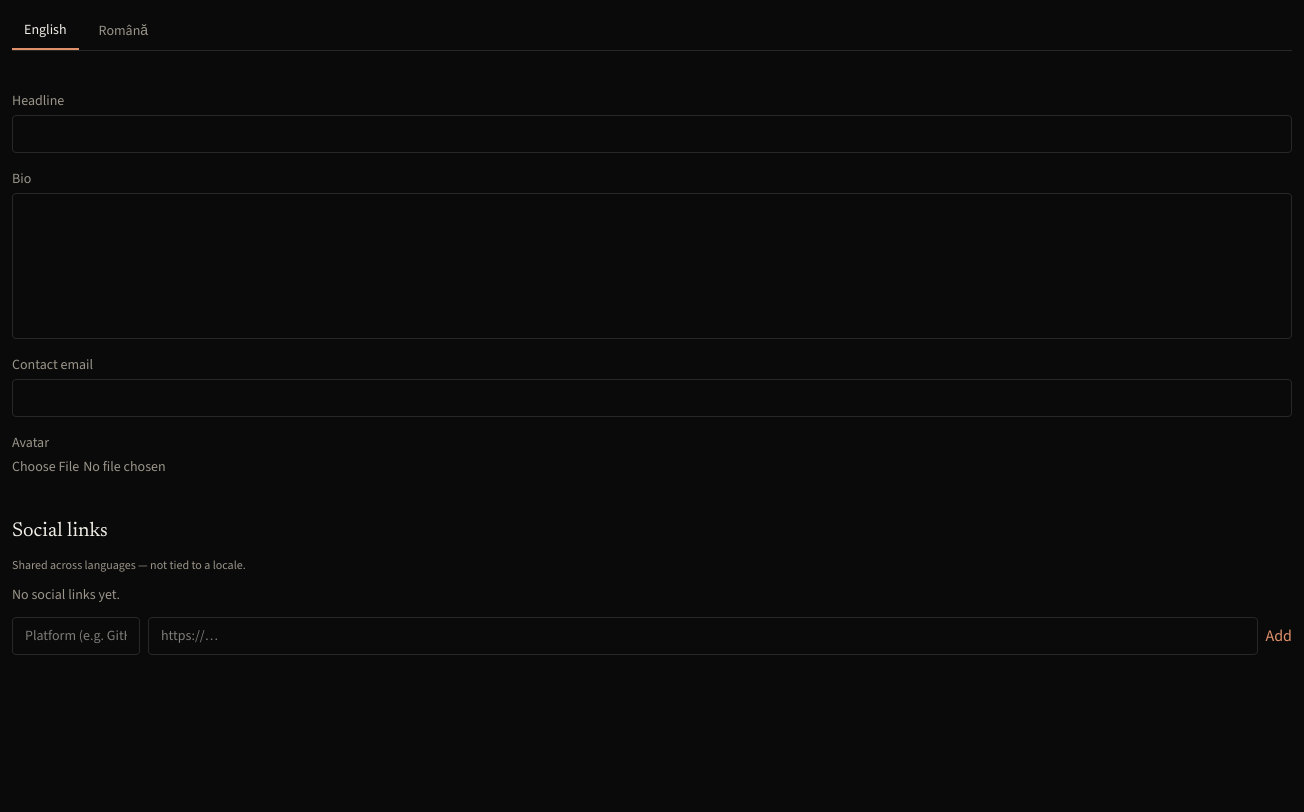
Test: AboutForm › shows a dismissible error banner when saving the headline fails
This screenshot has width=1304, height=812.
Type "Hi" into the field labelled "Headline". click: (652, 134)
box: [12,115,1292,153]
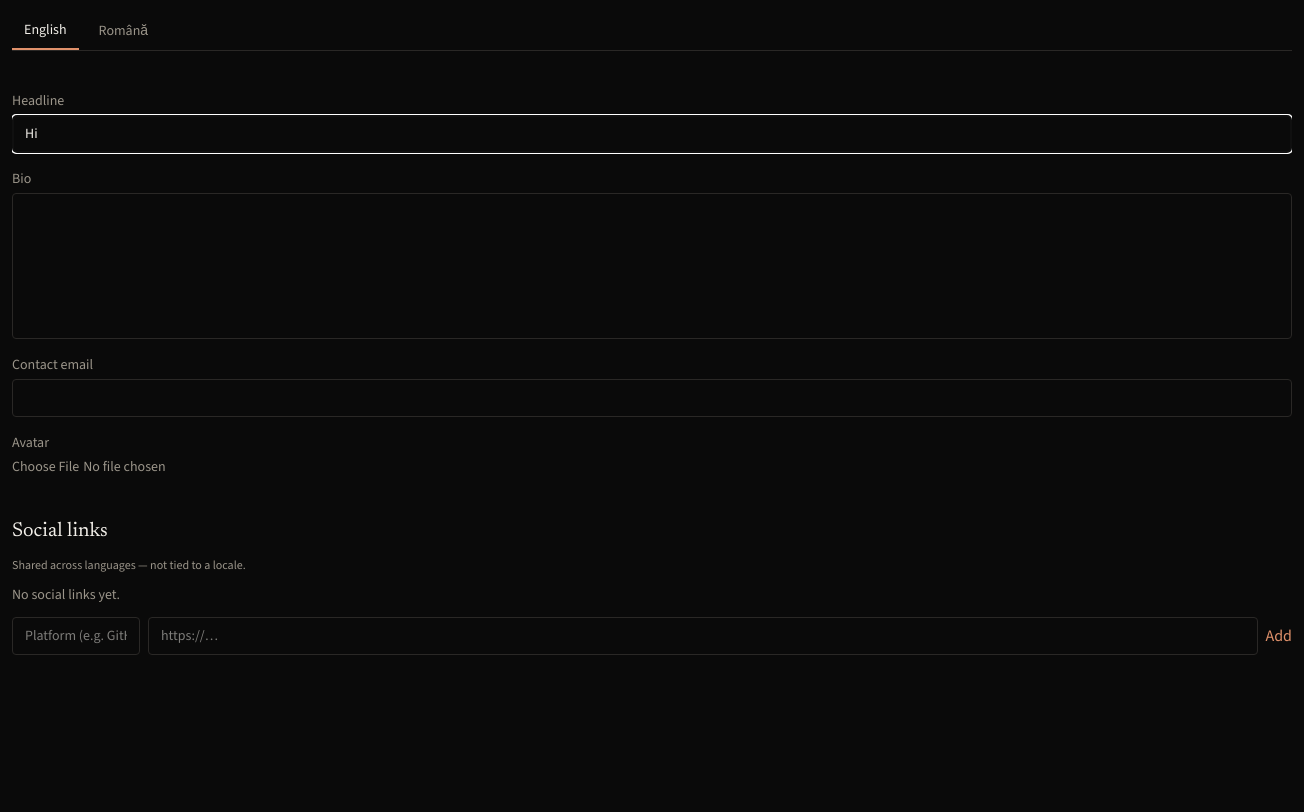
Press Tab
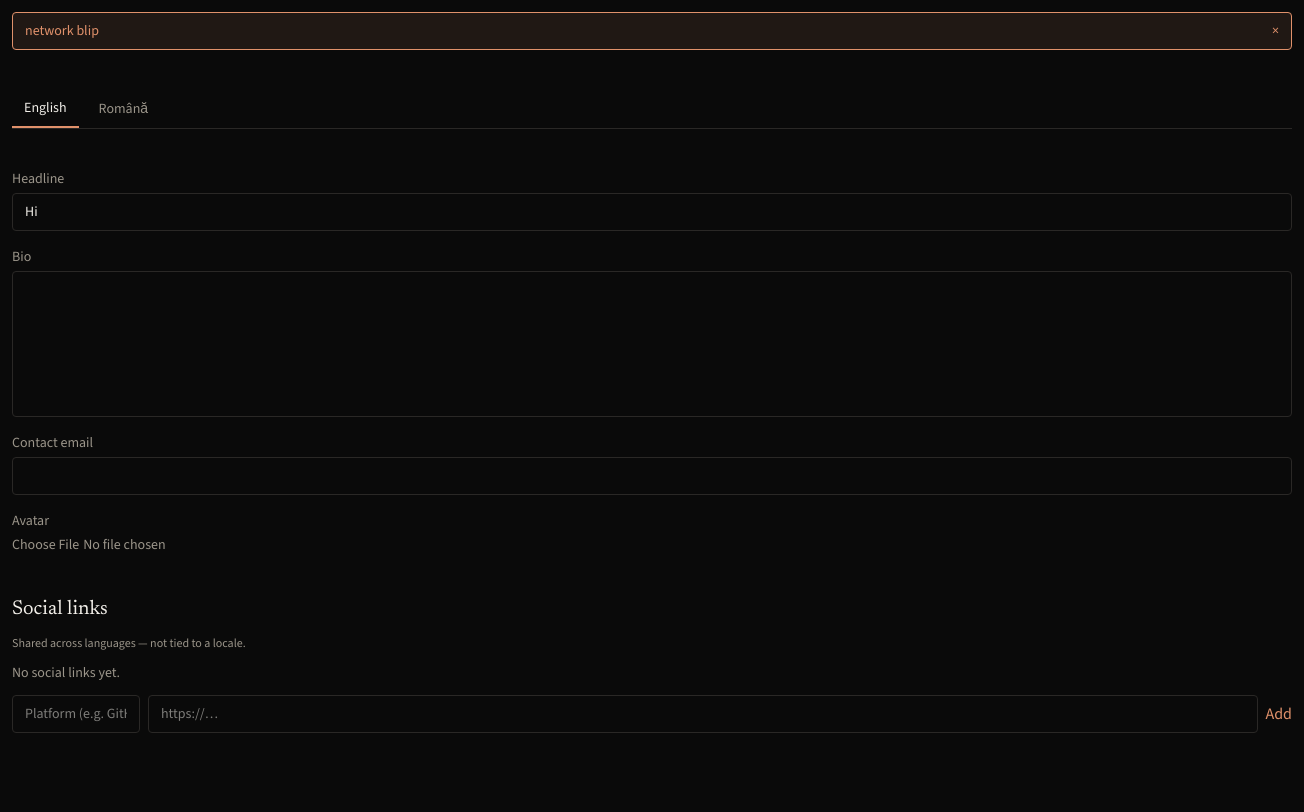
Check: the text "network blip" is shown, box [25,21,99,41]
Click the button named "Dismiss error". click: (1276, 31)
box: [1272,21,1279,41]
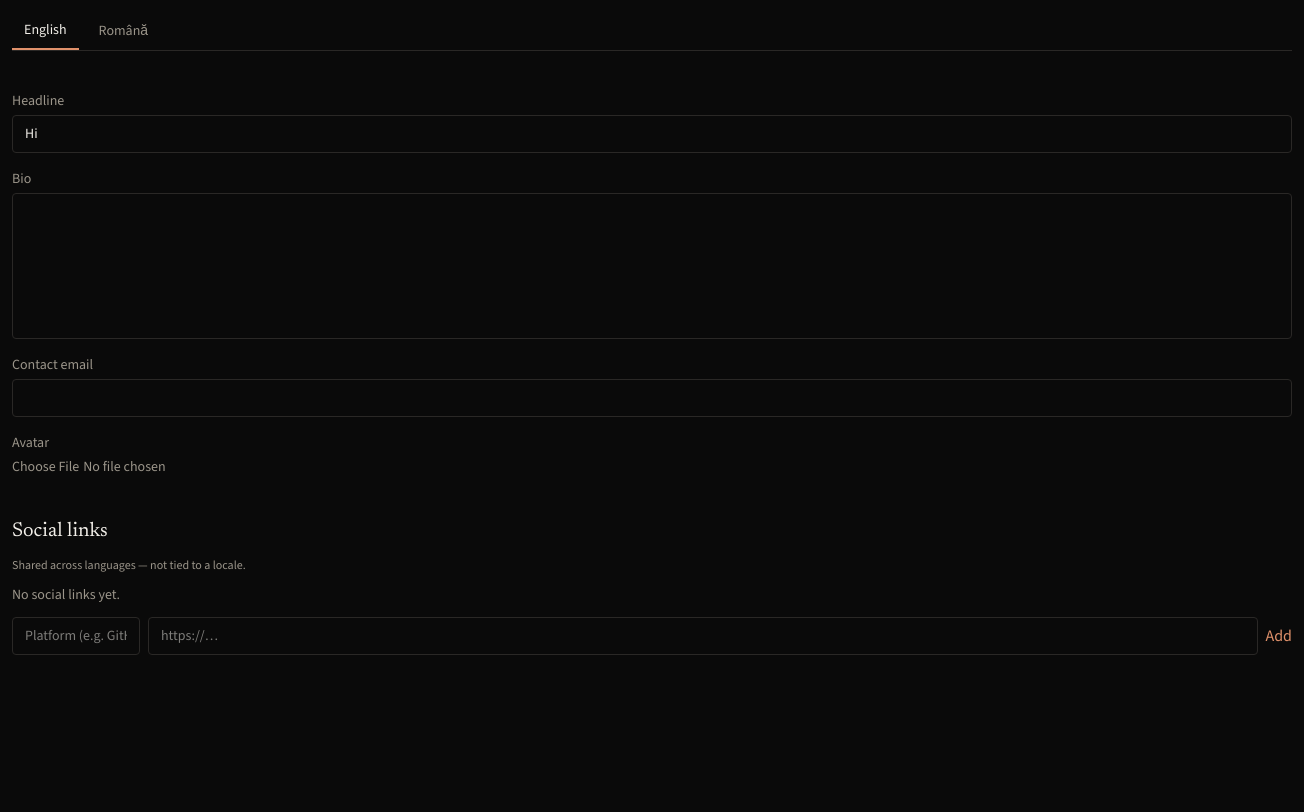
Check: the text "network blip" is gone
